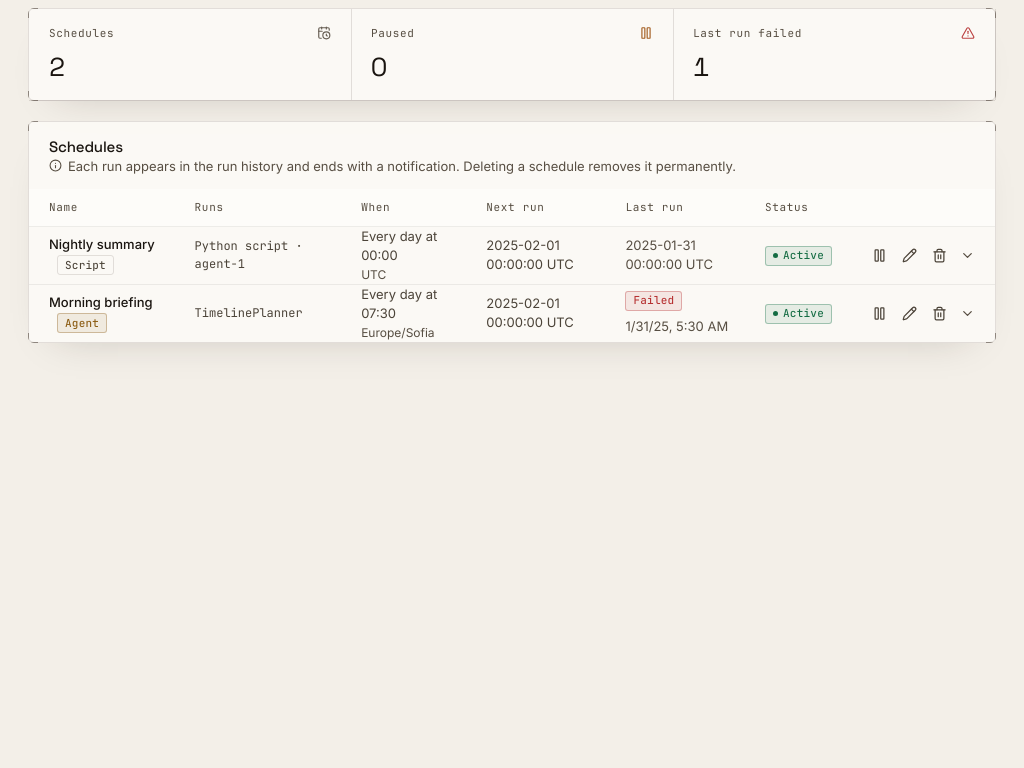
Test: Scheduler interactions › opens the dialog on the schedule being edited
Step 1. Click the button named "Edit Morning briefing" → (909, 313), box [894,298,924,328]
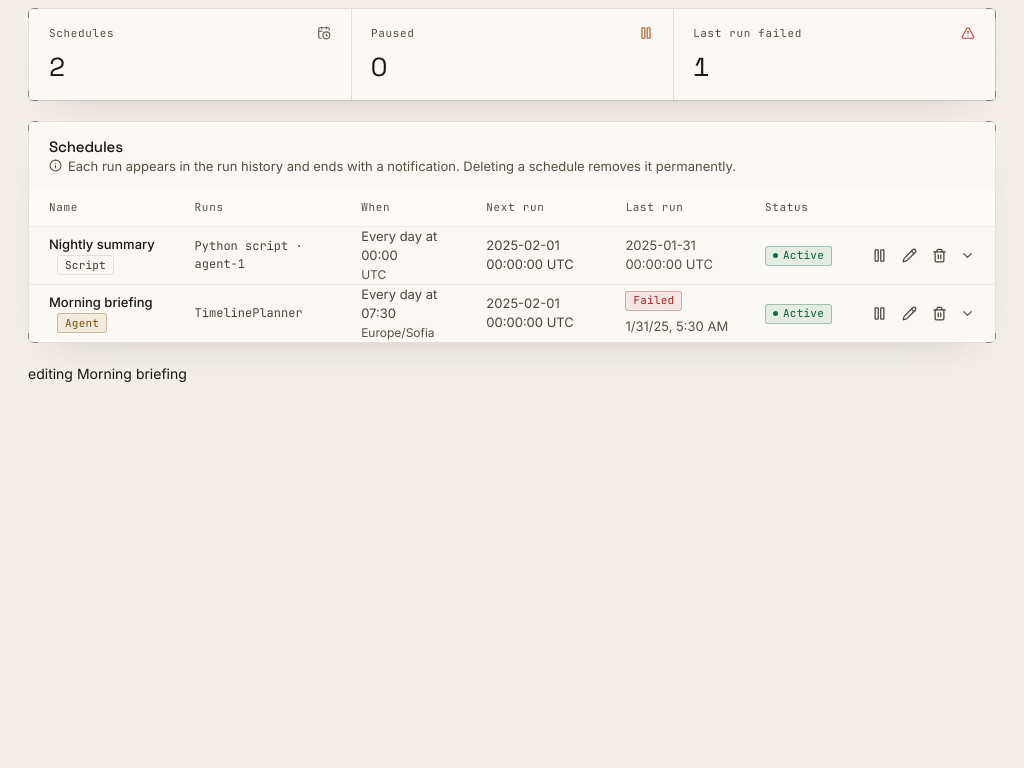
expect the dialog reads "editing Morning briefing": met, box [28,364,187,382]
